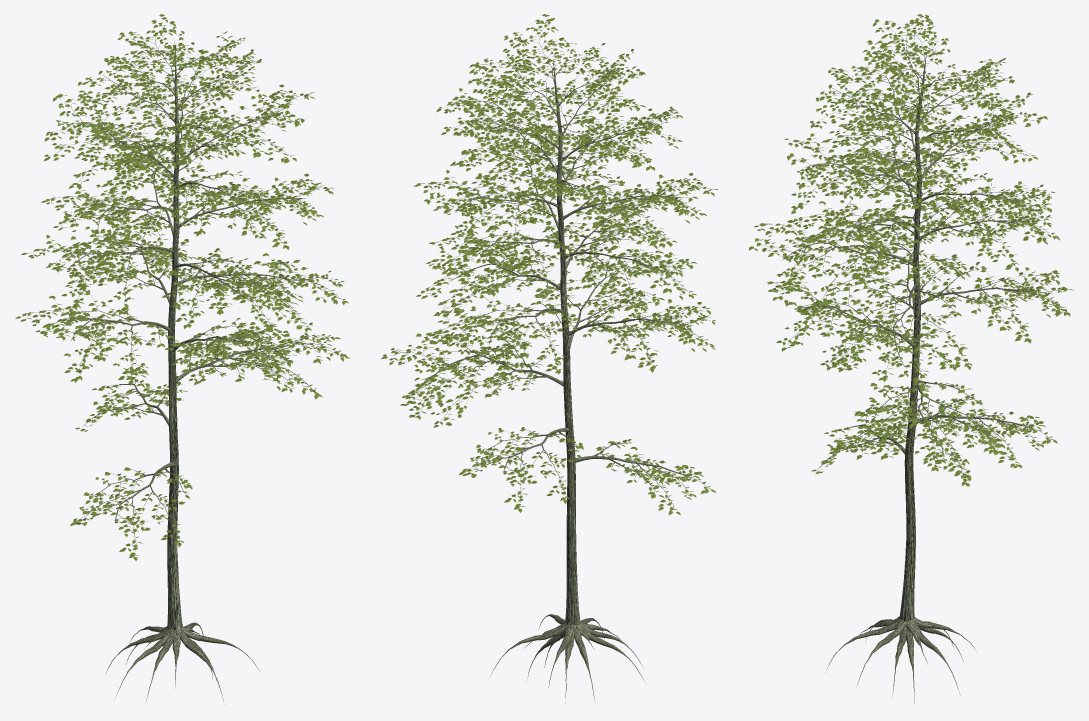
3 views of the same model, side by side, from view 1: azimuth 30°, elevation 25°; view 2: azimuth 150°, elevation 25°; view 3: azimuth 270°, elevation 25° (orthographic).
Visible parts, largest first — view 1: Beech_Medium_01.Shape; view 2: Beech_Medium_01.Shape; view 3: Beech_Medium_01.Shape.
Boxes of the visible parts, x1=… form: Beech_Medium_01.Shape: x1=15, y1=14, x2=350, y2=701; Beech_Medium_01.Shape: x1=381, y1=14, x2=717, y2=702; Beech_Medium_01.Shape: x1=749, y1=14, x2=1073, y2=703.
Size of the model in its own units: 3.99 by 7.87 by 3.52.
Materials: 2 (2 with a texture image).
